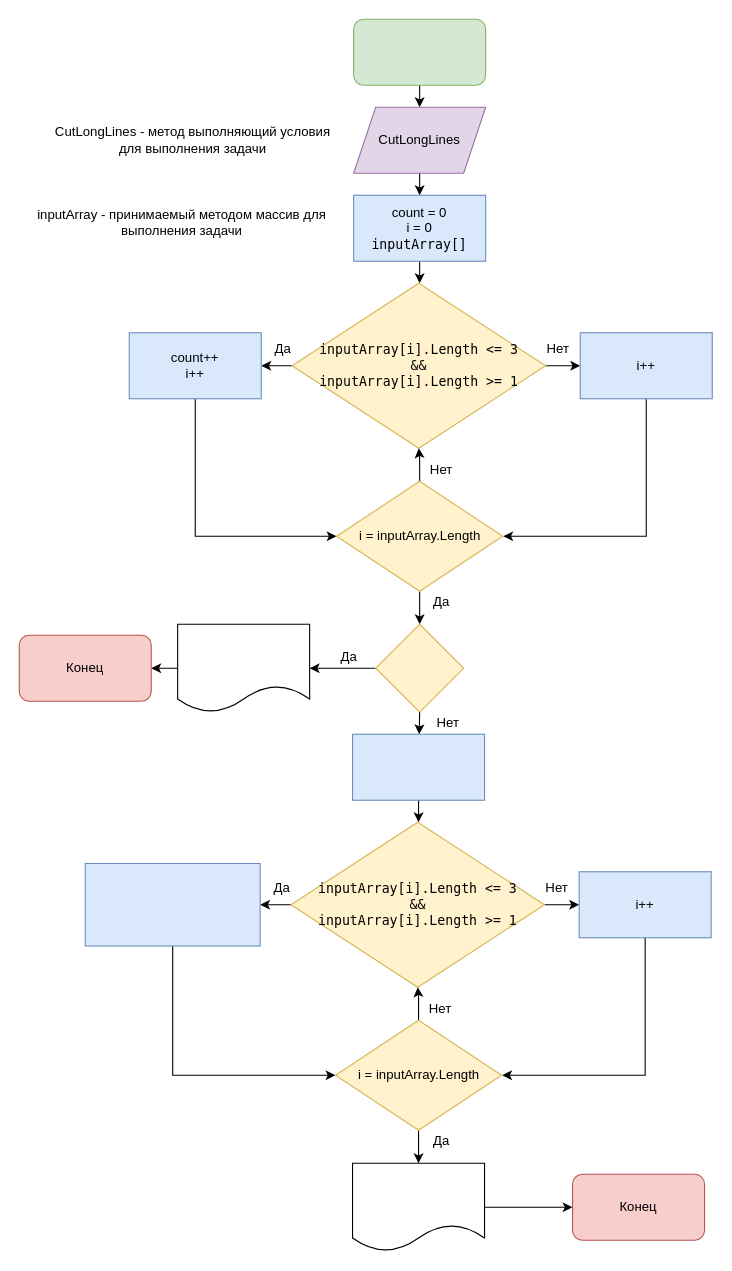
Some shapes in this 732 by 1271 pixel diagram are drawn without their labels. Here are the shapes that lost their labels. From the top down, the box of each, then its label:
(353, 18, 486, 85): Начало
(177, 623, 310, 712): return emptyArray= new string[1]
(375, 623, 464, 712): count = 0
(351, 733, 485, 800): outputArray[] = new string[count] count = 0 i = 0
(84, 862, 260, 946): outputArray[count] = inputArray[i] count++ i++
(351, 1162, 485, 1251): return outputArray
